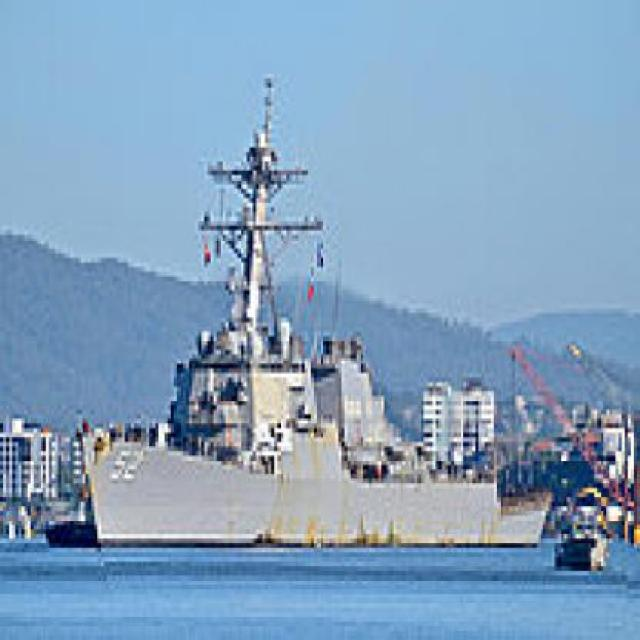warship2: (80, 93, 556, 564)
